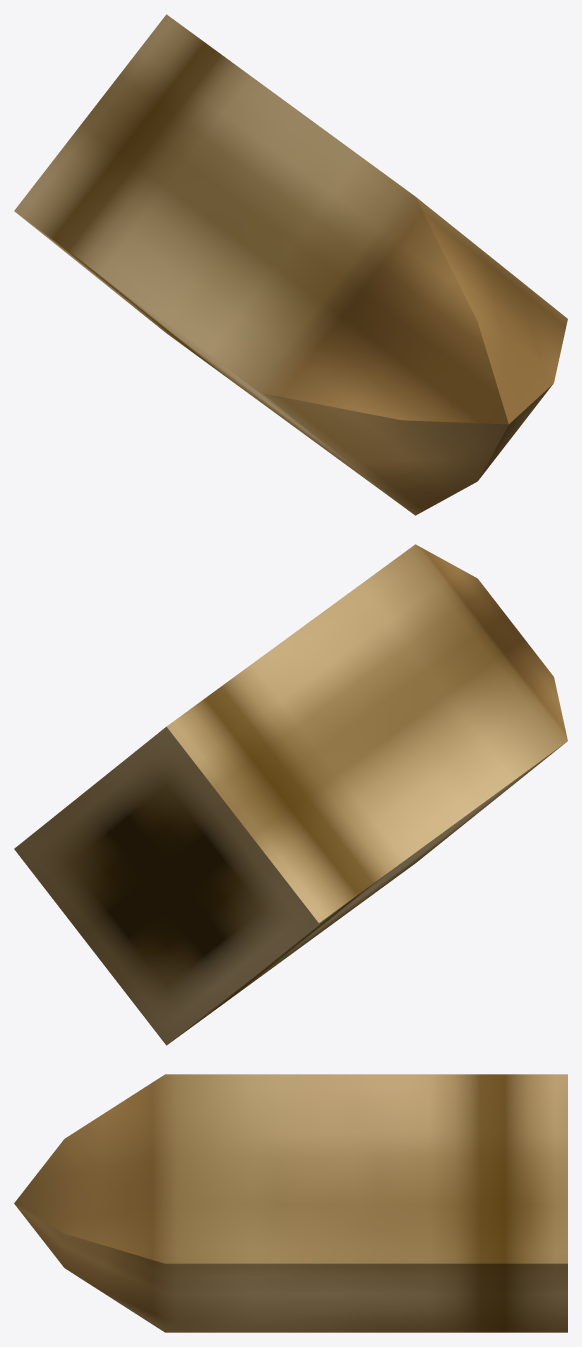
The model's file is BazookaRound.glb.
The picture shows the model from 3 angles, top to bottom: view 1: azimuth 30°, elevation 25°; view 2: azimuth 150°, elevation 25°; view 3: azimuth 270°, elevation 25°; orthographic projection. The views are drawn at different scales.
Visible parts, largest first — view 1: Cube; view 2: Cube; view 3: Cube.
Part boxes in pixels (bbox=[...]): Cube: bbox=[14, 14, 567, 515]; Cube: bbox=[14, 544, 567, 1045]; Cube: bbox=[14, 1074, 567, 1332].
Bounding box in the file's own units: 0.0442 × 0.0442 × 0.0859.
Materials: 1 (1 with a texture image).
